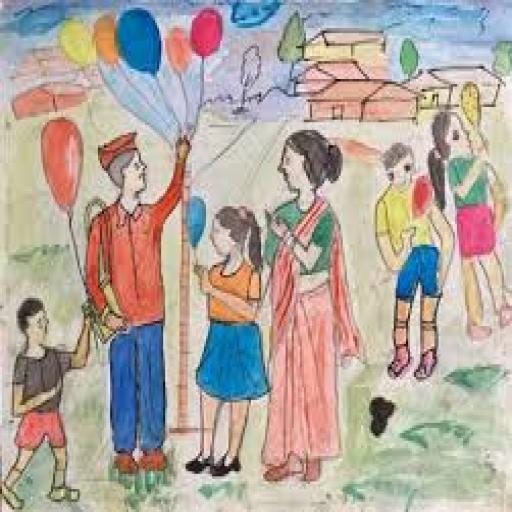person: (82, 126, 195, 480), (86, 133, 189, 473), (264, 130, 359, 481), (180, 193, 266, 483), (186, 207, 269, 476), (1, 293, 97, 509), (429, 113, 511, 338), (376, 143, 454, 379), (3, 299, 89, 509)
